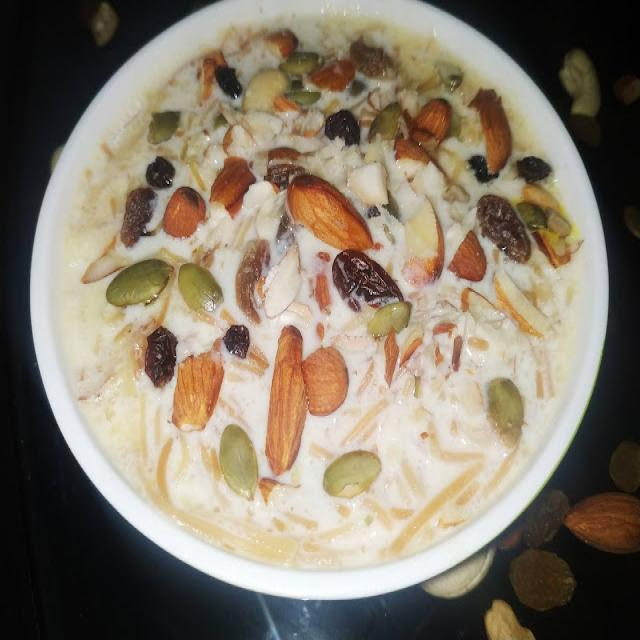shavige payasa: (46, 0, 608, 592)
